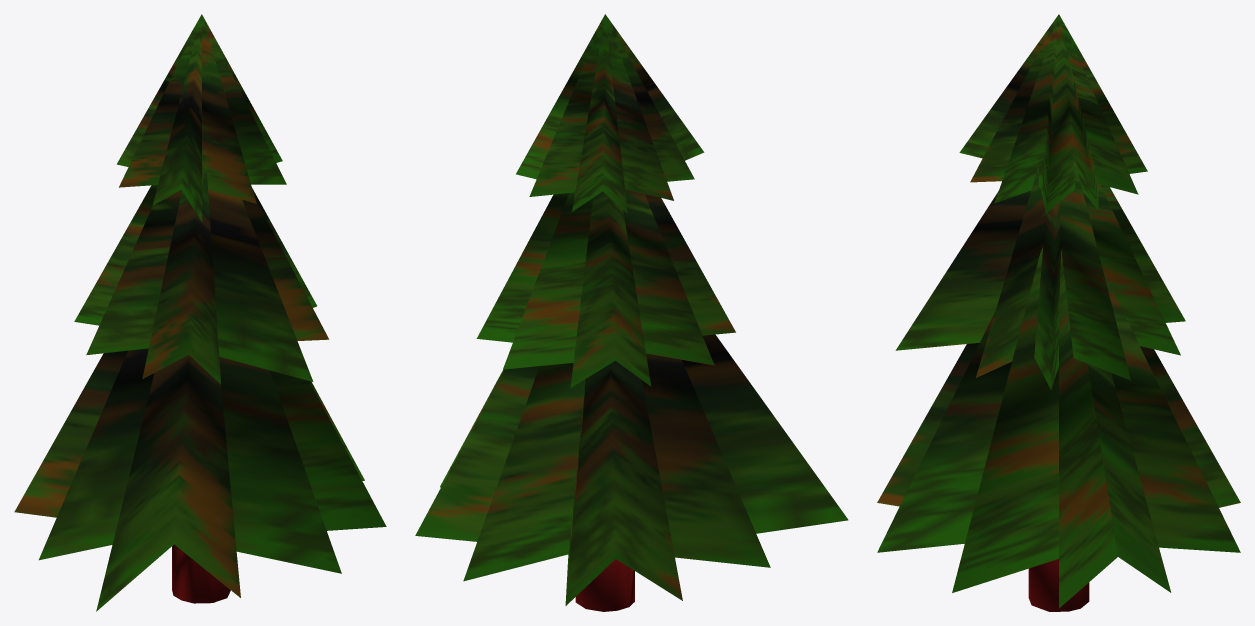
The model's file is pine.obj.
The picture shows the model from 3 angles, left to right: view 1: azimuth 30°, elevation 25°; view 2: azimuth 150°, elevation 25°; view 3: azimuth 270°, elevation 25°; orthographic projection.
Parts seen in each view (by area): view 1: pCone2; view 2: pCone2; view 3: pCone2.
Part boxes in pixels (bbox=[...]): pCone2: bbox=[14, 14, 386, 611]; pCone2: bbox=[415, 14, 848, 611]; pCone2: bbox=[877, 14, 1240, 611].
Size of the model in its own units: 0.4376 by 0.7176 by 0.4042.
Materials: 2 (1 with a texture image).
